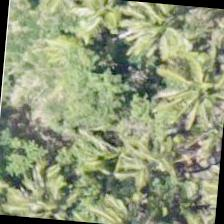Kelapa_Sawit: (102, 104, 200, 202), (111, 0, 207, 86), (142, 40, 223, 139)
